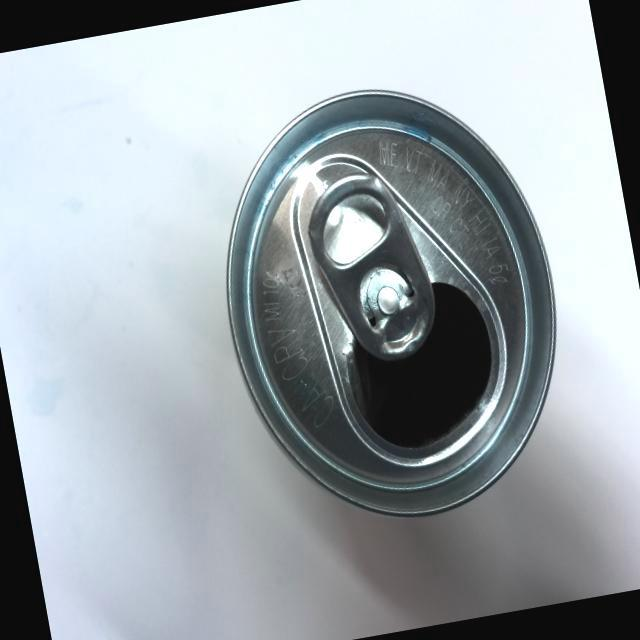metal: (184, 31, 597, 553)
